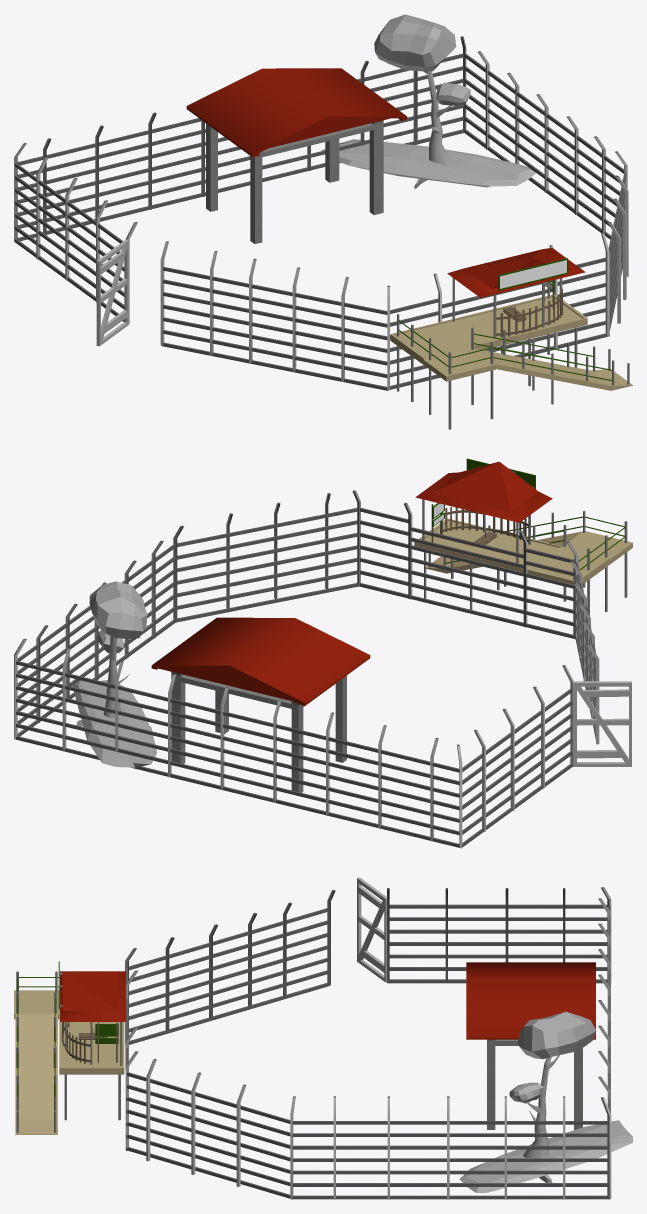
The model's file is unwrapped_Giraffe_enclosure 1.fbx.
The picture shows the model from 3 angles, top to bottom: view 1: azimuth 30°, elevation 25°; view 2: azimuth 150°, elevation 25°; view 3: azimuth 270°, elevation 25°; orthographic projection.
Visible parts, largest first — view 1: Canopy, Walkway_base, Box008, Box009, Roof, Gate, enclosure fence008, enclosure fence007, enclosure fence012, enclosure fence009, Poster, enclosure fence013 (+19 smaller); view 2: Canopy, Walkway_base, Roof, Box008, Gate, Box009, enclosure fence009, enclosure fence012, enclosure fence008, enclosure fence013, enclosure fence010, enclosure fence011 (+26 smaller); view 3: Canopy, Walkway_base, Box008, Roof, Box009, Gate, enclosure fence025, enclosure fence021, enclosure fence023, enclosure fence022, enclosure fence024, enclosure fence027 (+26 smaller).
Part boxes in pixels (x1,y1,x2,y2): Canopy: [186, 68, 407, 243]; Walkway_base: [390, 294, 632, 390]; Box008: [321, 139, 535, 187]; Box009: [374, 14, 456, 71]; Roof: [447, 248, 585, 297]; Gate: [96, 239, 128, 346]; enclosure fence008: [17, 116, 463, 228]; enclosure fence007: [17, 129, 463, 241]; enclosure fence012: [17, 66, 463, 177]; enclosure fence009: [17, 104, 463, 215]; Poster: [498, 258, 568, 290]; enclosure fence013: [17, 53, 463, 165]; Canopy: [151, 617, 370, 792]; Walkway_base: [414, 518, 632, 584]; Roof: [415, 461, 552, 522]; Box008: [72, 680, 157, 767]; Gate: [574, 681, 631, 766]; Box009: [89, 581, 147, 638]; enclosure fence009: [16, 711, 459, 822]; enclosure fence012: [16, 673, 459, 785]; enclosure fence008: [16, 723, 459, 835]; enclosure fence013: [16, 661, 459, 772]; enclosure fence010: [16, 698, 459, 810]; enclosure fence011: [16, 686, 459, 797]; Canopy: [466, 962, 595, 1129]; Walkway_base: [14, 989, 124, 1134]; Box008: [459, 1120, 632, 1192]; Roof: [60, 971, 125, 1021]; Box009: [517, 1011, 596, 1059]; Gate: [357, 877, 386, 982]; enclosure fence025: [292, 1145, 608, 1149]; enclosure fence021: [292, 1195, 608, 1199]; enclosure fence023: [292, 1170, 608, 1174]; enclosure fence022: [292, 1183, 608, 1186]; enclosure fence024: [292, 1158, 608, 1161]; enclosure fence027: [292, 1121, 608, 1124].
Bounding box in the file's own units: 49.32 × 14.11 × 53.68.
